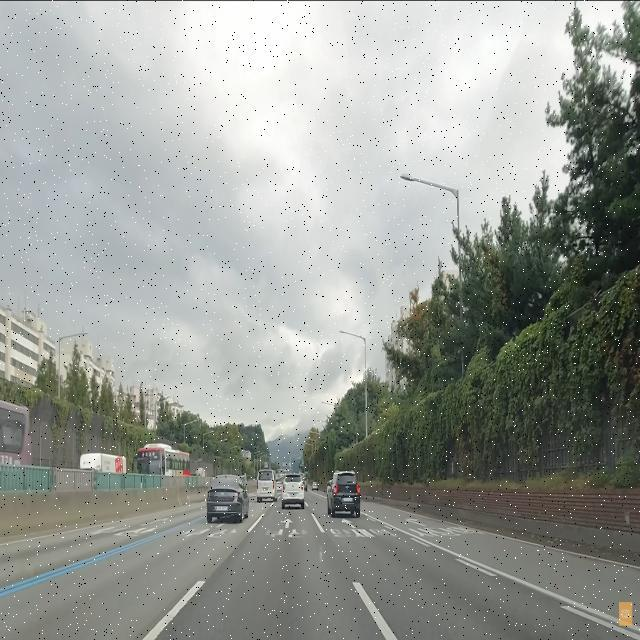forward: (251, 517, 319, 529)
